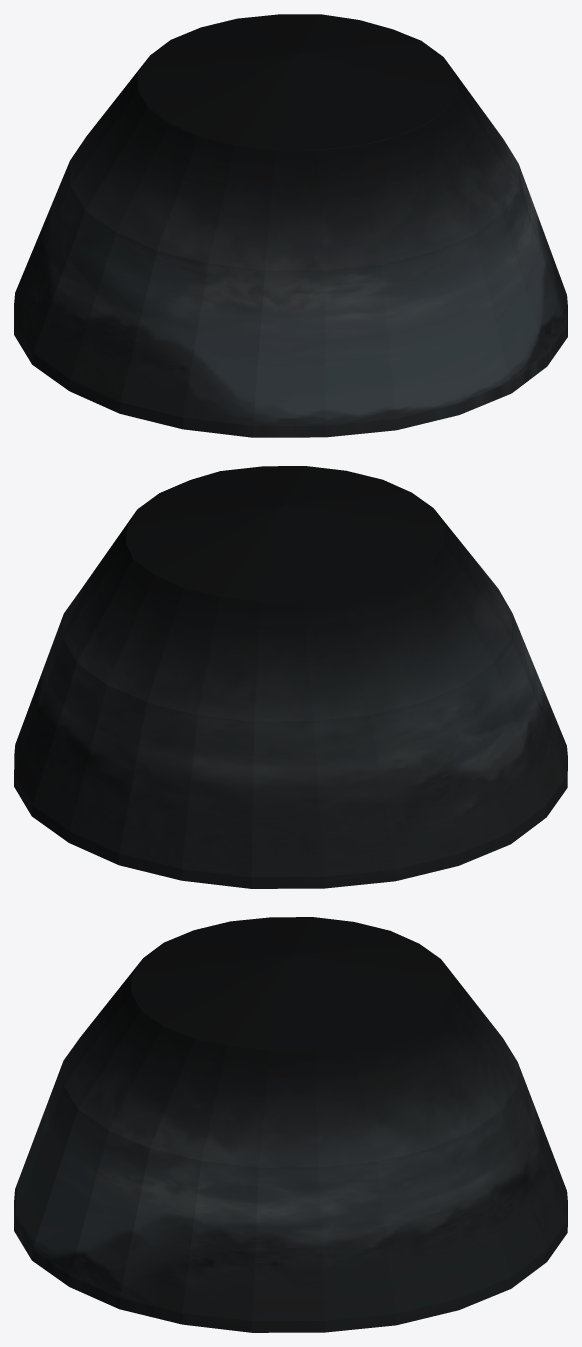
3 views of the same model, one above another, from view 1: azimuth 30°, elevation 25°; view 2: azimuth 150°, elevation 25°; view 3: azimuth 270°, elevation 25° (orthographic).
Parts seen in each view (by area): view 1: mesh00; view 2: mesh00; view 3: mesh00.
Boxes of the visible parts, x1,y1,x2,y2 form: mesh00: (14, 14, 567, 437); mesh00: (14, 466, 567, 888); mesh00: (14, 917, 567, 1332).
Bounding box in the file's own units: 84649 × 44856 × 85116.
2 materials, 2 textured.
